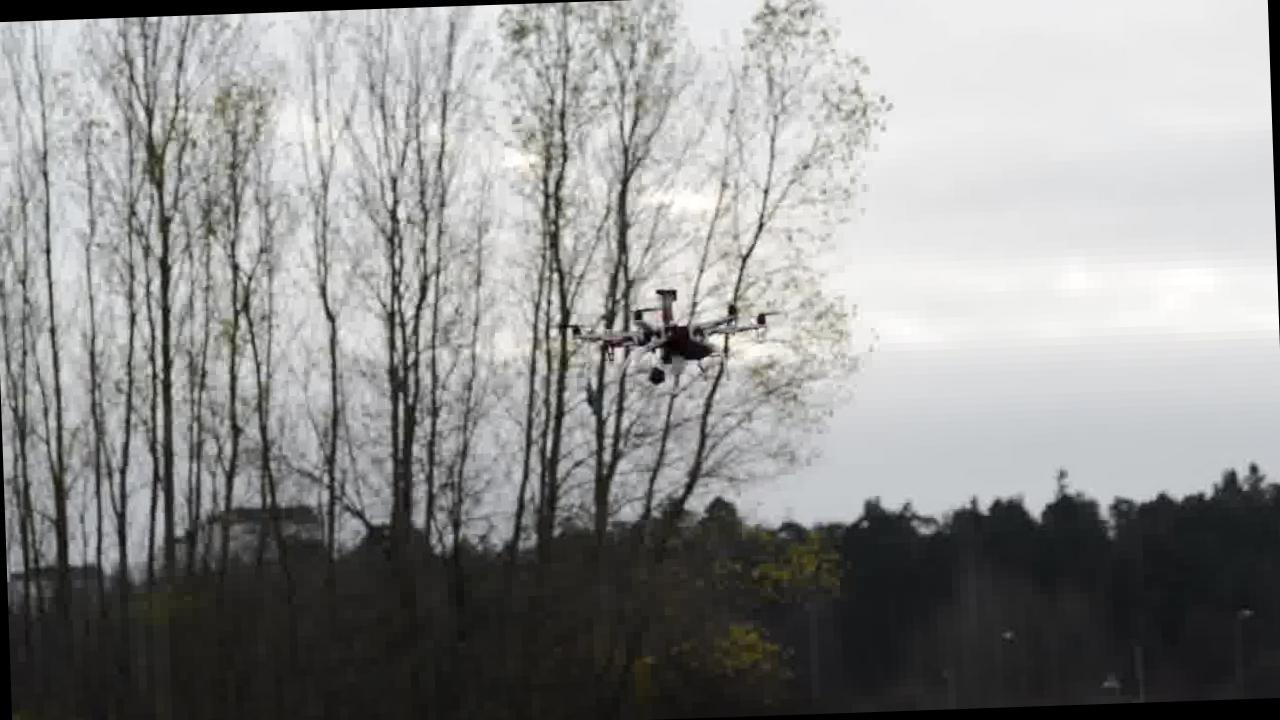drone: (554, 277, 779, 391)
